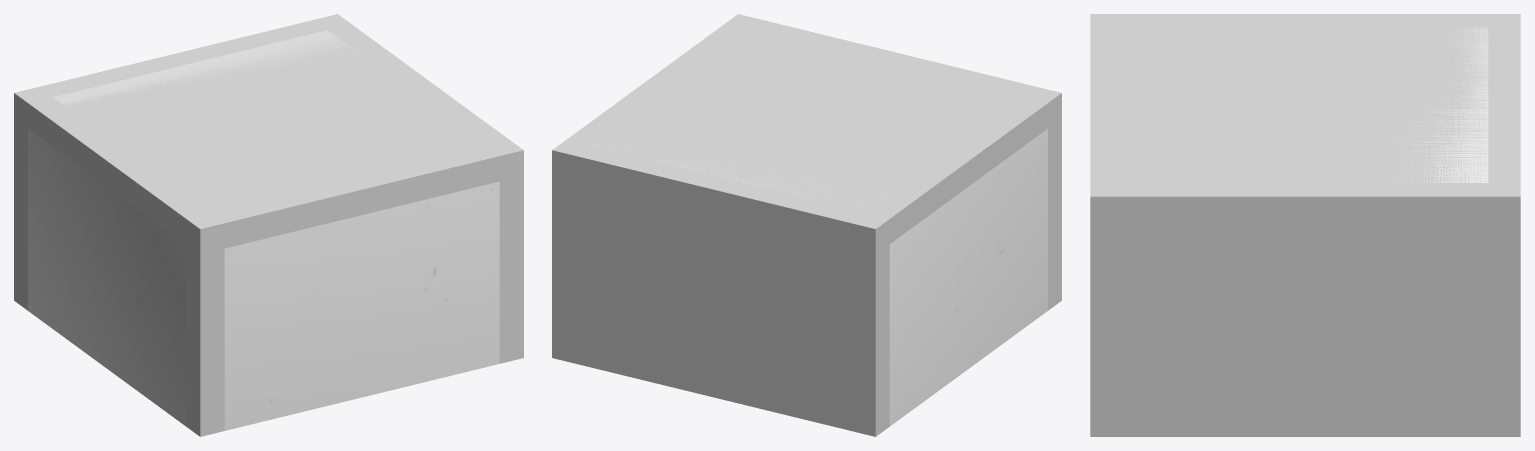
File: MeCo_Small_Display.gltf
3 renders of one model, left to right at view 1: azimuth 30°, elevation 25°; view 2: azimuth 150°, elevation 25°; view 3: azimuth 270°, elevation 25°, orthographic. The views are drawn at different scales.
Visible parts, largest first — view 1: MeCo_Small_Display.001, MeCo_Small_Display_bcol; view 2: MeCo_Small_Display_bcol, MeCo_Small_Display.001; view 3: MeCo_Small_Display_bcol, MeCo_Small_Display.001.
Boxes of the visible parts, bbox=[...] form: MeCo_Small_Display.001: bbox=[28, 30, 499, 430]; MeCo_Small_Display_bcol: bbox=[14, 14, 523, 436]; MeCo_Small_Display_bcol: bbox=[552, 14, 1061, 436]; MeCo_Small_Display.001: bbox=[592, 129, 1047, 426]; MeCo_Small_Display_bcol: bbox=[1090, 14, 1520, 436]; MeCo_Small_Display.001: bbox=[1378, 27, 1488, 182].
Bounding box in the file's own units: 1.29 × 0.7911 × 1.28.
1 material, 1 textured.
